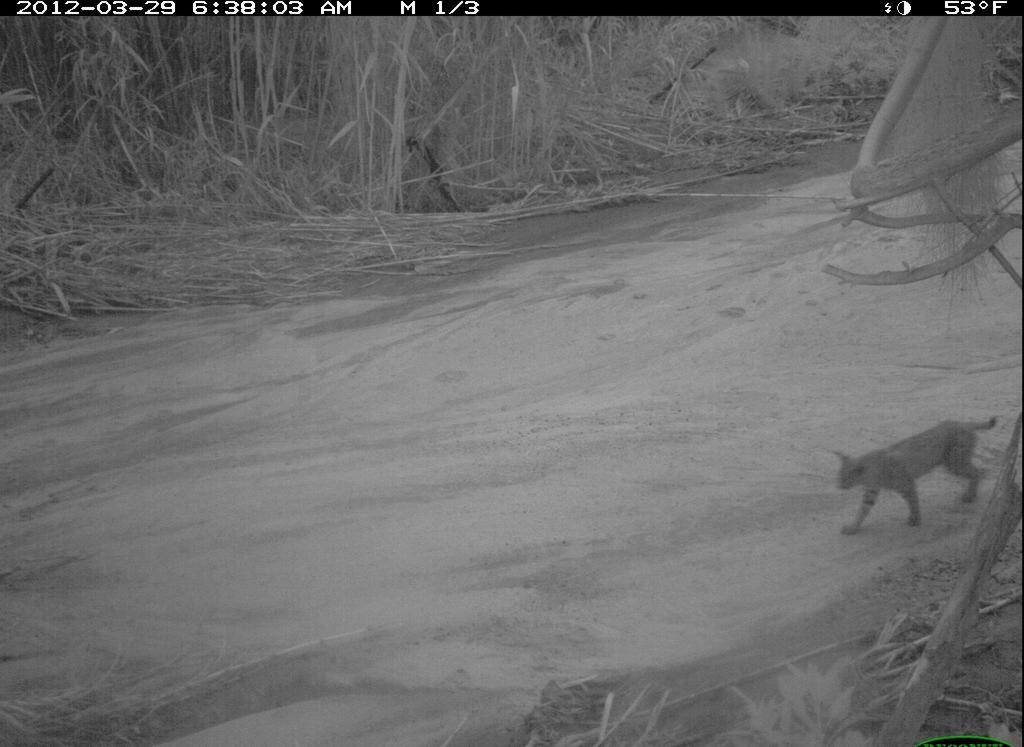bobcat: (824, 409, 1005, 550)
